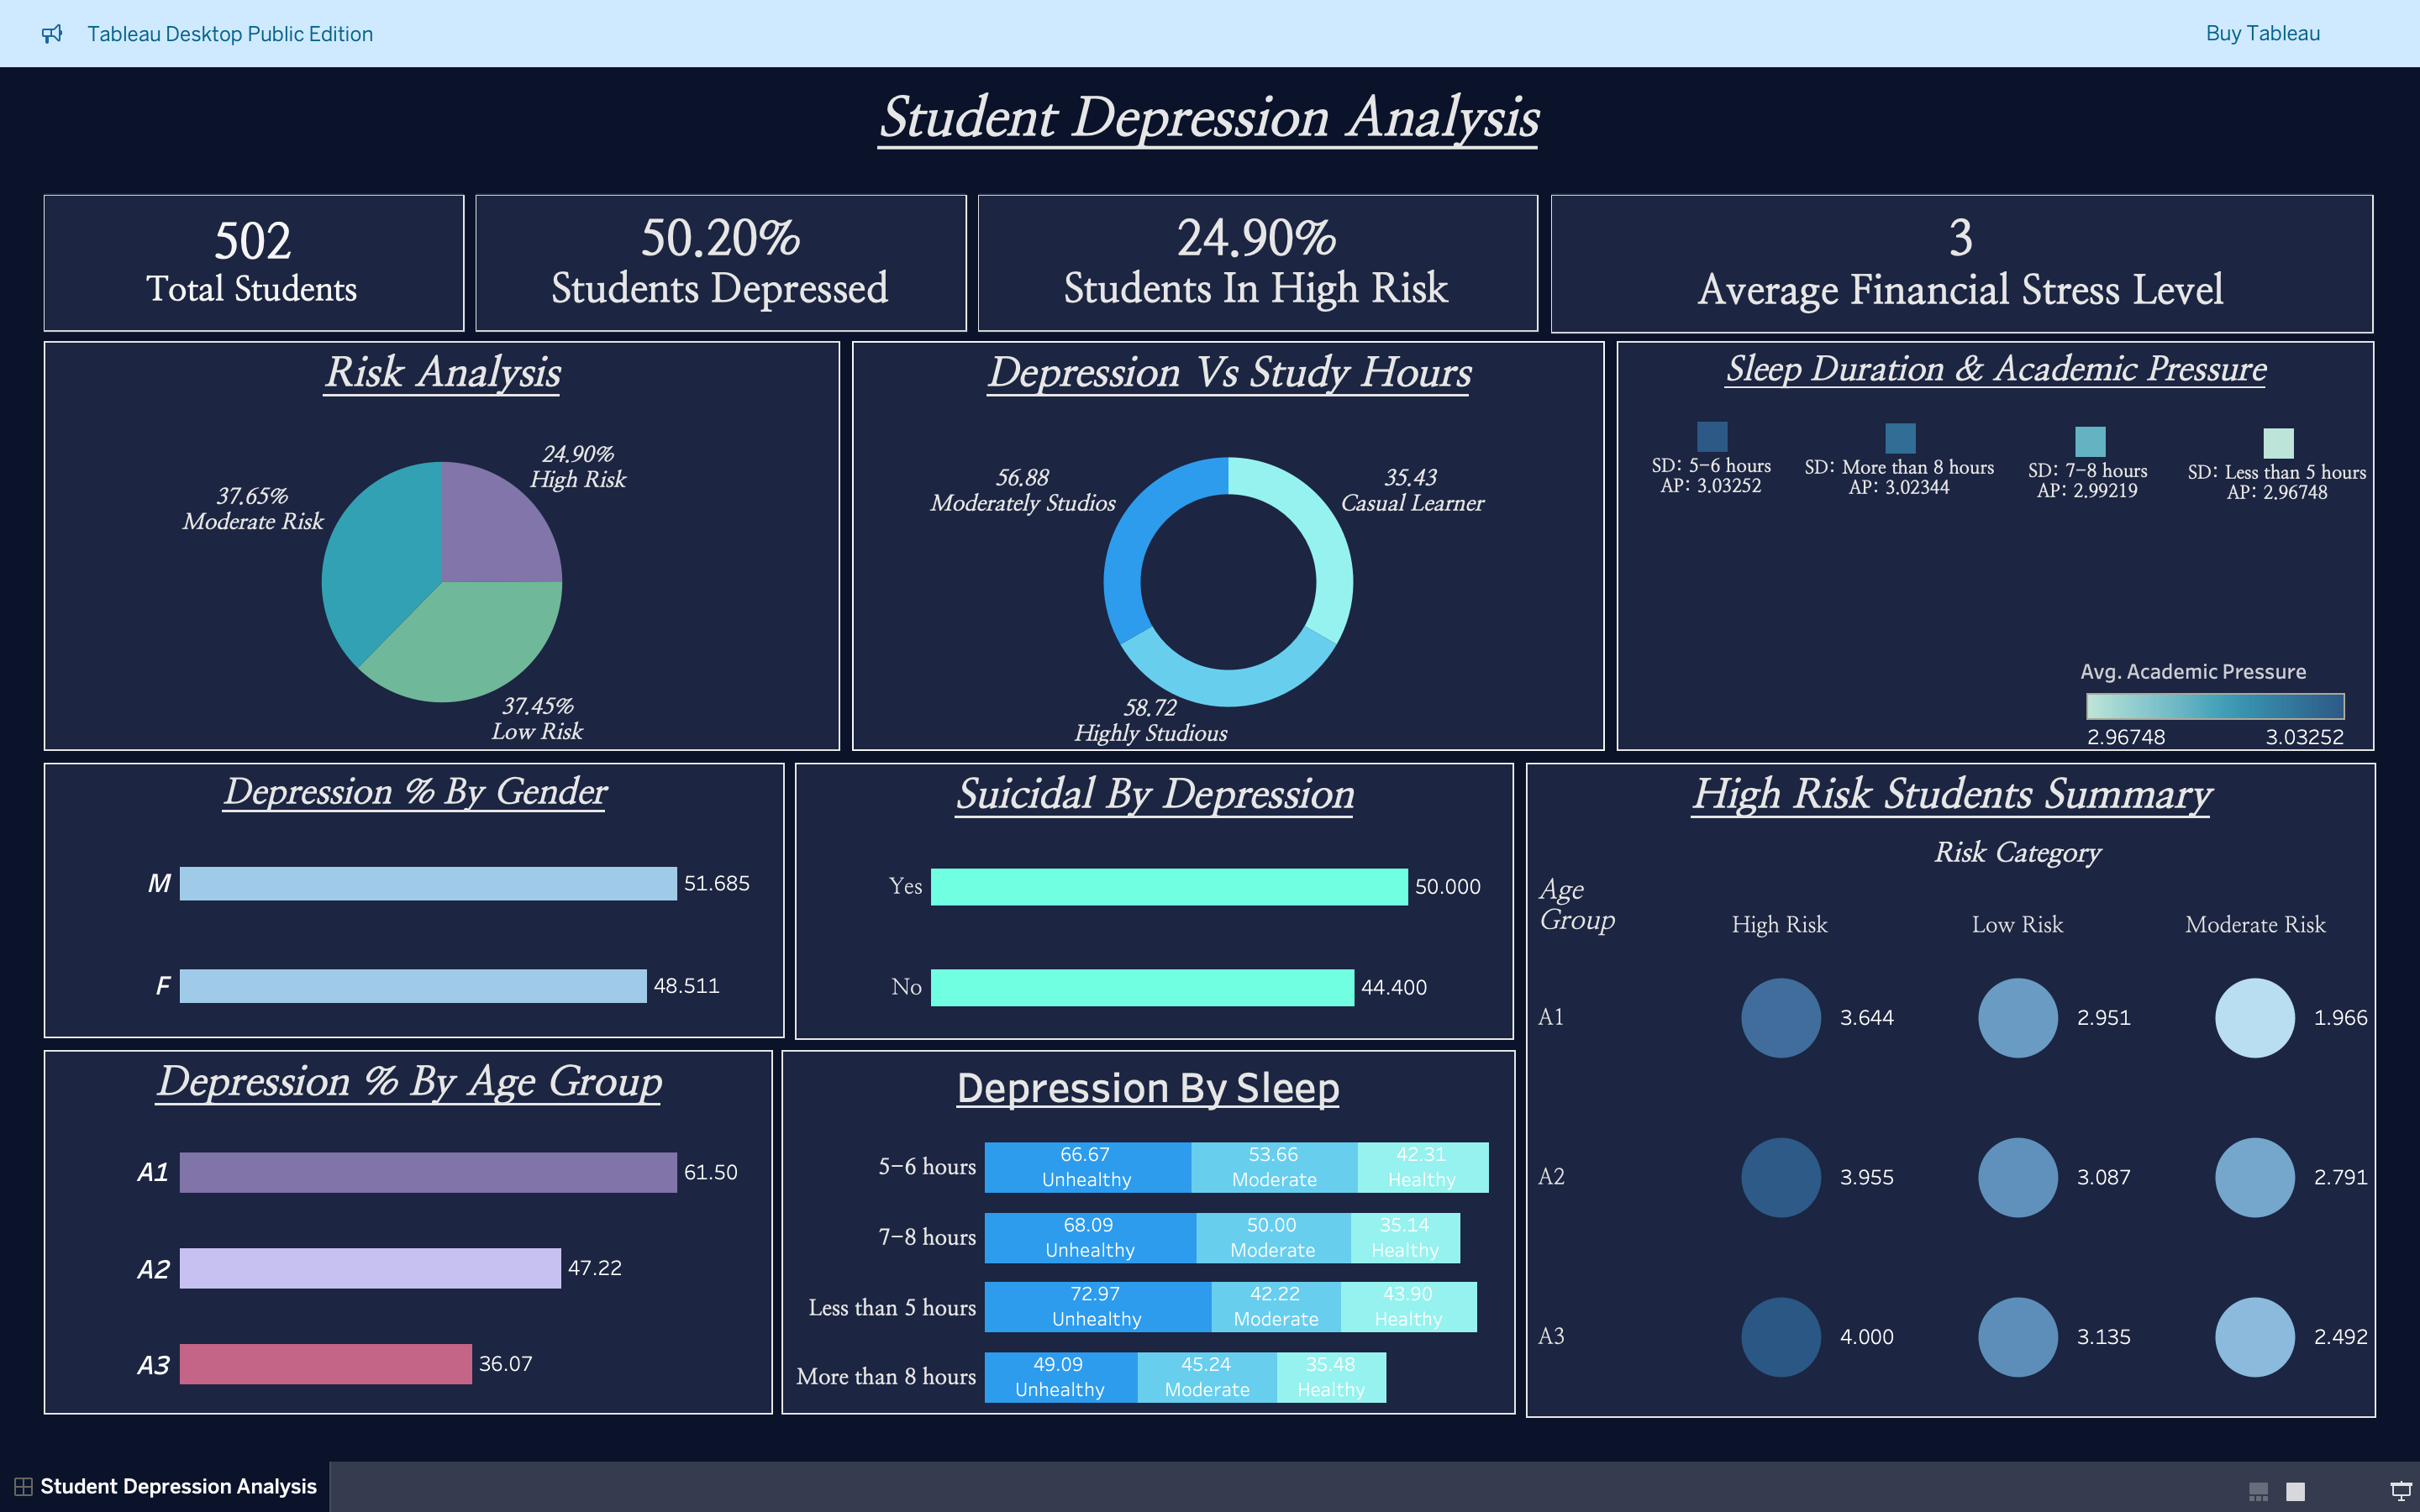

The dashboard page shown, as its layout file describes it:
{"tool":"tableau","page":{"name":"Student Depression Analysis","canvas":[1000,1000],"units":"permille","ordinal":0},"visuals":[{"type":"title","box":[5.6,9.6,988.7,54.2]},{"type":"worksheet","title":"KPI 1","mark":"Automatic","box":[11.4,72.9,176.6,117.2]},{"type":"worksheet","title":"KPI 2","mark":"Automatic","box":[192,72.9,206.7,117.2]},{"type":"worksheet","title":"KPI 3","mark":"Automatic","box":[402.8,72.9,235.2,117.2]},{"type":"worksheet","title":"KPI 4","mark":"Automatic","box":[642.8,72.9,345,118.5]},{"type":"worksheet","title":"Risk Pie Chart","mark":"Pie","box":[11.4,196.6,333.6,294.3]},{"type":"worksheet","title":"Pie 2","mark":"Pie","rows":["Calculation_0055418196865032","Calculation_0055418196873226"],"box":[349.9,196.6,315.7,294.3]},{"type":"worksheet","title":"Heat map","mark":"Square","rows":["Academic Pressure"],"cols":["Sleep Duration"],"box":[670.5,196.6,317.3,294.3]},{"type":"legend","title":"Heat map","param":"[federated.069jm291900ne218z5a9315ugxju].[avg:Academic Pressure:qk]","box":[864.9,423.2,113.9,99]},{"type":"worksheet","title":"Bar Chart","mark":"Automatic","rows":["Gender"],"cols":["Calculation_0055418176184320"],"box":[11.4,498.7,310.8,197.9]},{"type":"worksheet","title":"Suicidal By Dep","mark":"Automatic","rows":["Depression"],"cols":["Calculation_0055418223964171"],"box":[326.3,498.7,301.1,199.2]},{"type":"worksheet","title":"Sheet 13","mark":"Circle","rows":["Age_Group"],"cols":["Calculation_0055418178879489"],"box":[632.2,498.7,356.4,470.1]},{"type":"worksheet","title":"Depression By Age","mark":"Automatic","rows":["Age_Group"],"cols":["Calculation_0055418176184320"],"box":[11.4,704.4,305.9,261.7]},{"type":"worksheet","title":"Dep by sleep ","mark":"Automatic","rows":["Sleep Duration"],"cols":["Calculation_0055418176184320"],"box":[320.6,704.4,307.6,261.7]}]}

Visuals, with their boxes on the dashboard's canvas, which has no fixed pixel size, in thousandths of its width and height (x1, y1, x2, y2). These are canvas units, not pixel positions in the 2420x1512 screenshot, which may show the page scaled, cropped or inside an application window:
title: [6,10,994,64]
"KPI 1" worksheet: [11,73,188,190]
"KPI 2" worksheet: [192,73,399,190]
"KPI 3" worksheet: [403,73,638,190]
"KPI 4" worksheet: [643,73,988,191]
"Risk Pie Chart" worksheet (Pie marks): [11,197,345,491]
"Pie 2" worksheet (Pie marks): [350,197,666,491]
"Heat map" worksheet (Square marks): [670,197,988,491]
"Heat map" legend: [865,423,979,522]
"Bar Chart" worksheet: [11,499,322,697]
"Suicidal By Dep" worksheet: [326,499,627,698]
"Sheet 13" worksheet (Circle marks): [632,499,989,969]
"Depression By Age" worksheet: [11,704,317,966]
"Dep by sleep " worksheet: [321,704,628,966]
